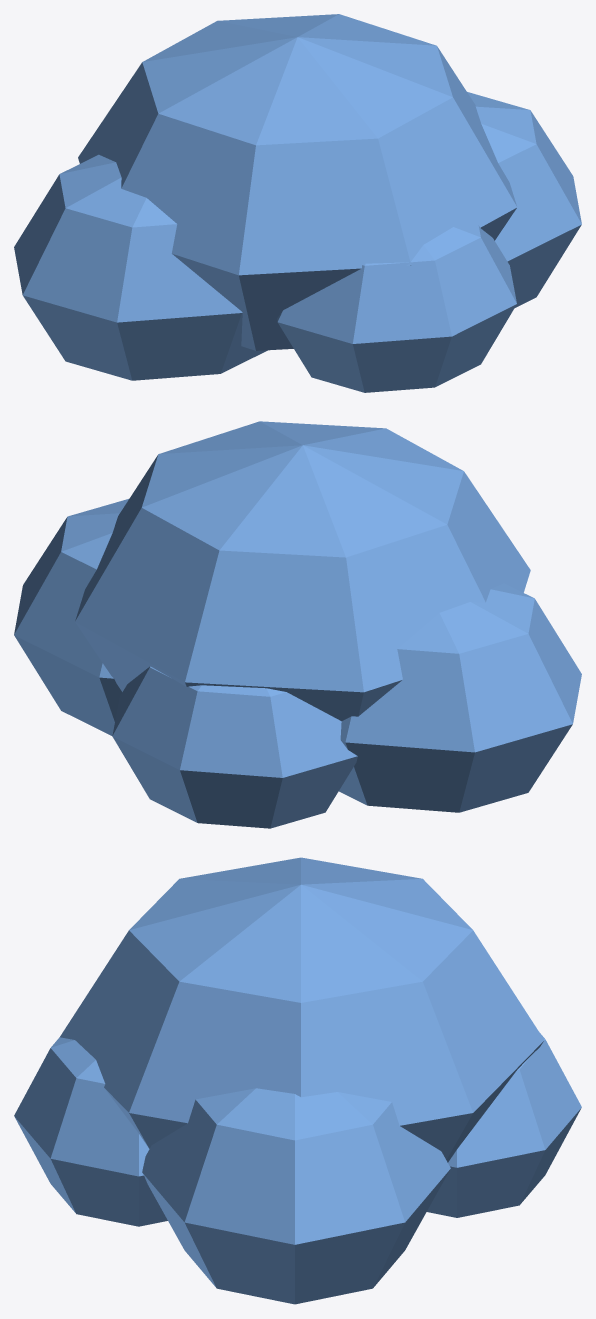
Rendered from t4_tree_leaves.glb.
3 renders of one model, top to bottom at view 1: azimuth 30°, elevation 25°; view 2: azimuth 150°, elevation 25°; view 3: azimuth 270°, elevation 25°, orthographic. The views are drawn at different scales.
Visible parts, largest first — view 1: Leaf_Center, Leaf_Left, Leaf_Back, Leaf_Right; view 2: Leaf_Center, Leaf_Left, Leaf_Front, Leaf_Right; view 3: Leaf_Center, Leaf_Right, Leaf_Back, Leaf_Front.
Part boxes in pixels (box(x1,y1,x2,y2)): Leaf_Center: box(78, 14, 517, 350); Leaf_Left: box(14, 154, 267, 380); Leaf_Back: box(277, 225, 516, 392); Leaf_Right: box(467, 92, 581, 307); Leaf_Center: box(75, 421, 530, 721); Leaf_Left: box(339, 583, 581, 812); Leaf_Front: box(112, 666, 357, 828); Leaf_Right: box(14, 499, 128, 735); Leaf_Center: box(60, 857, 544, 1162); Leaf_Right: box(142, 1088, 450, 1304); Leaf_Back: box(14, 1037, 167, 1226); Leaf_Front: box(427, 1033, 581, 1217).
Bounding box in the file's own units: 2.14 × 1.18 × 1.82.
